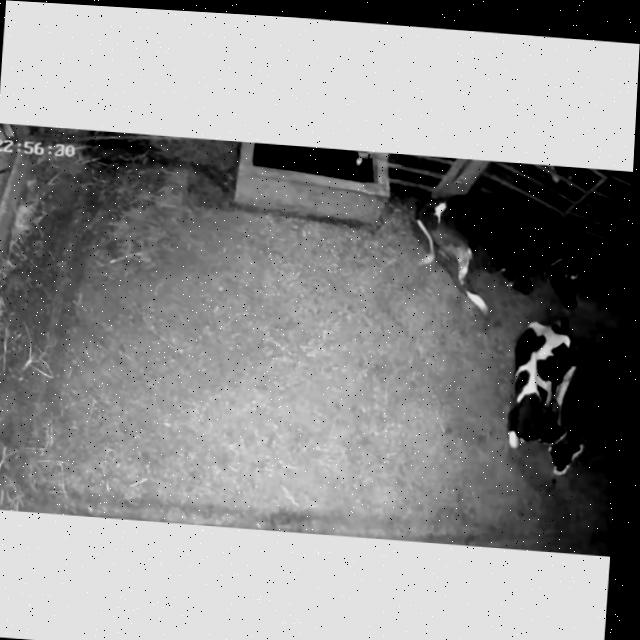lay: (401, 179, 606, 323), (492, 299, 609, 494)
